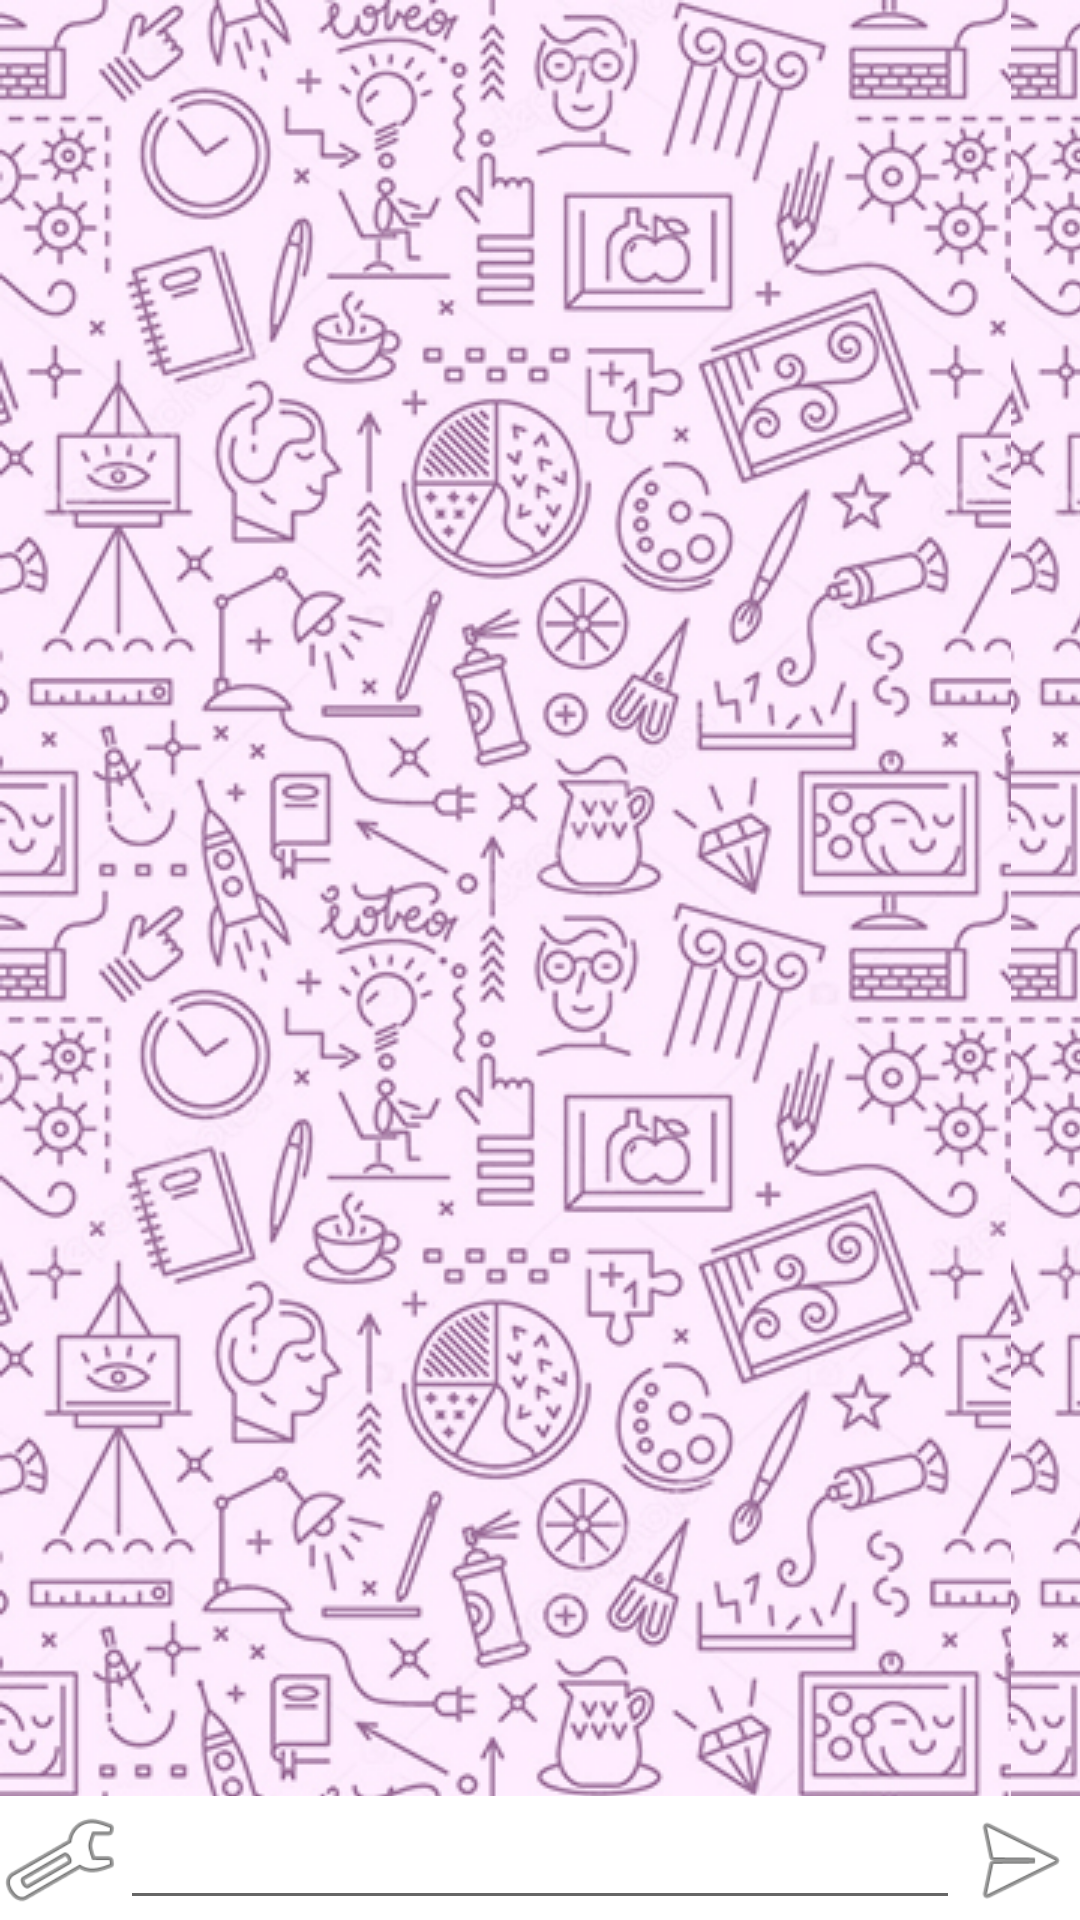

Icons on this 1080 x 1920 Android screen, each with the point to tap as point (x, y):
manage: point (60, 1860)
send: point (1021, 1861)
